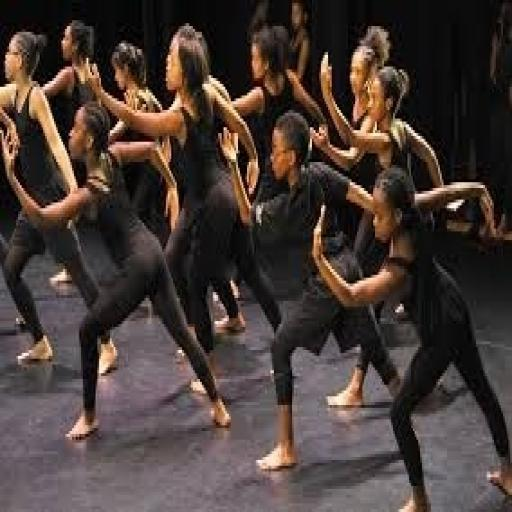dancing: (0, 26, 481, 470)
